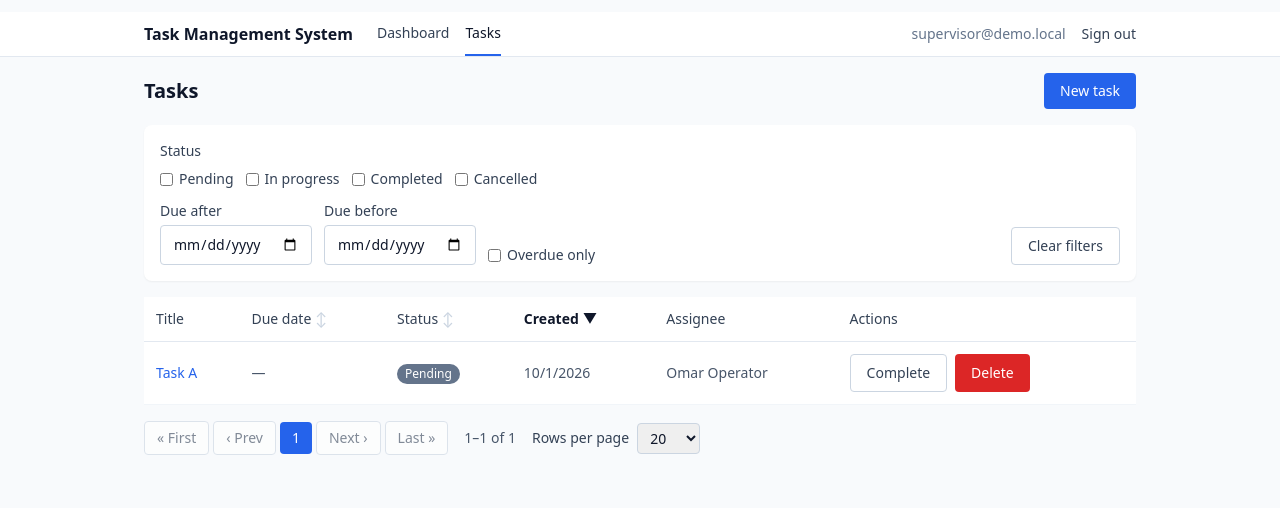
Test: task actions from the list (D87) › shows the message when completing fails
Click the button with aria-label "Complete Task A" at (898, 373), box [850,354,947,392]
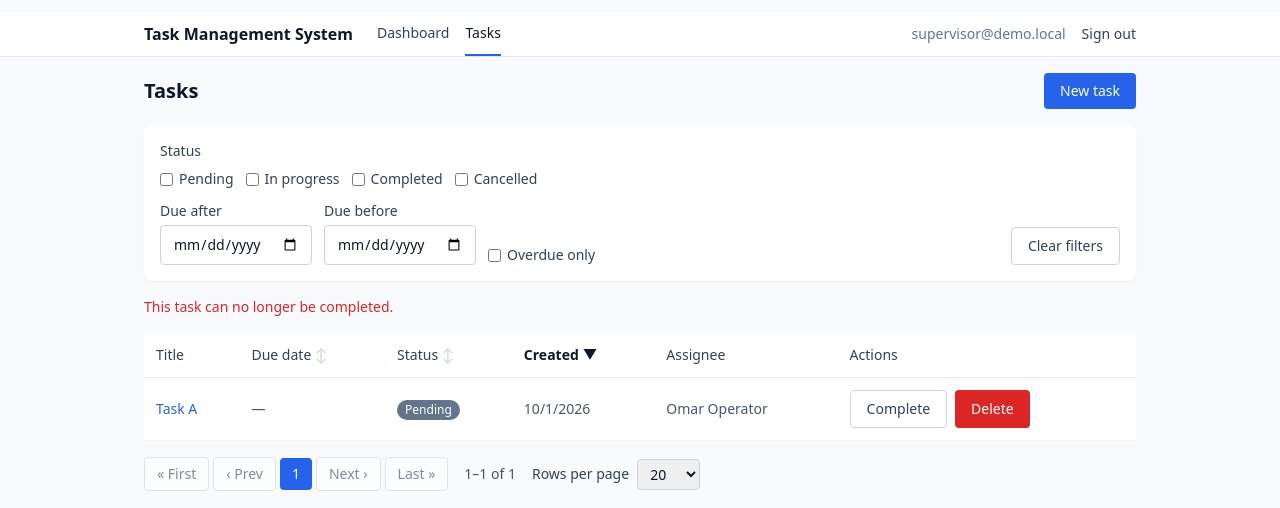
Check: the message reads "This task can no longer be completed.", box [144,297,393,316]
